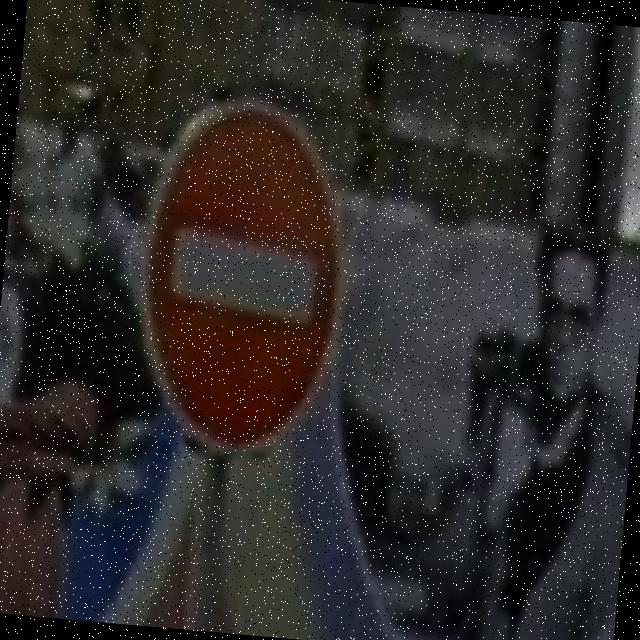Zakaz wjazdu: (120, 85, 362, 458)
